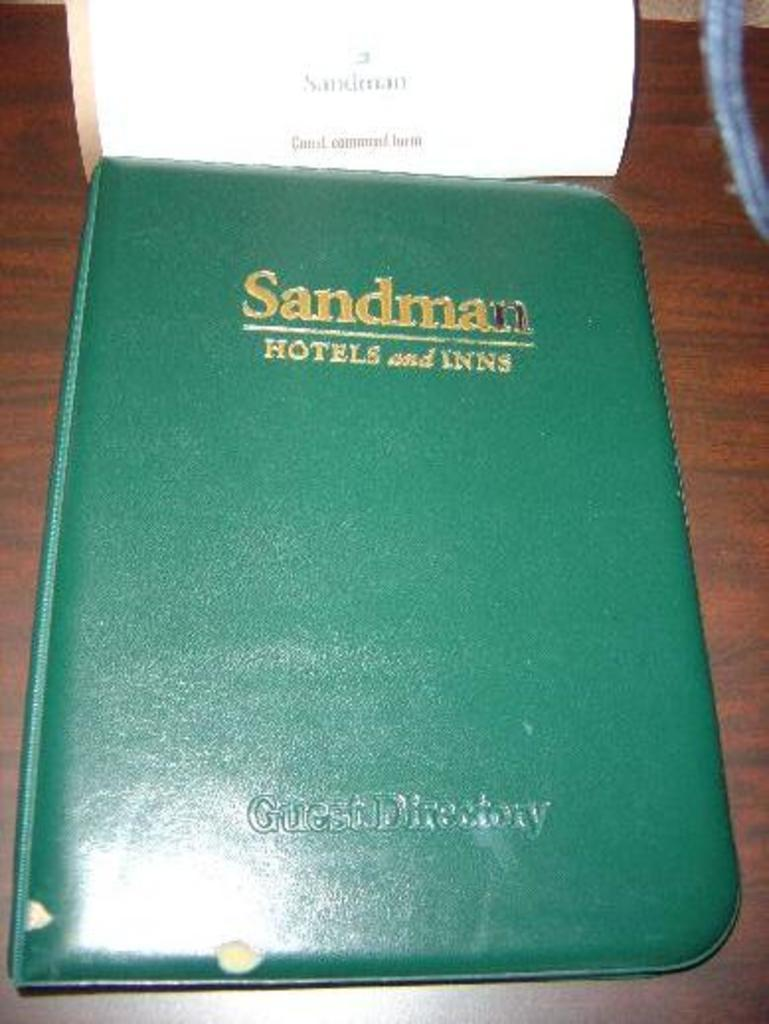book: (14, 103, 735, 1024)
